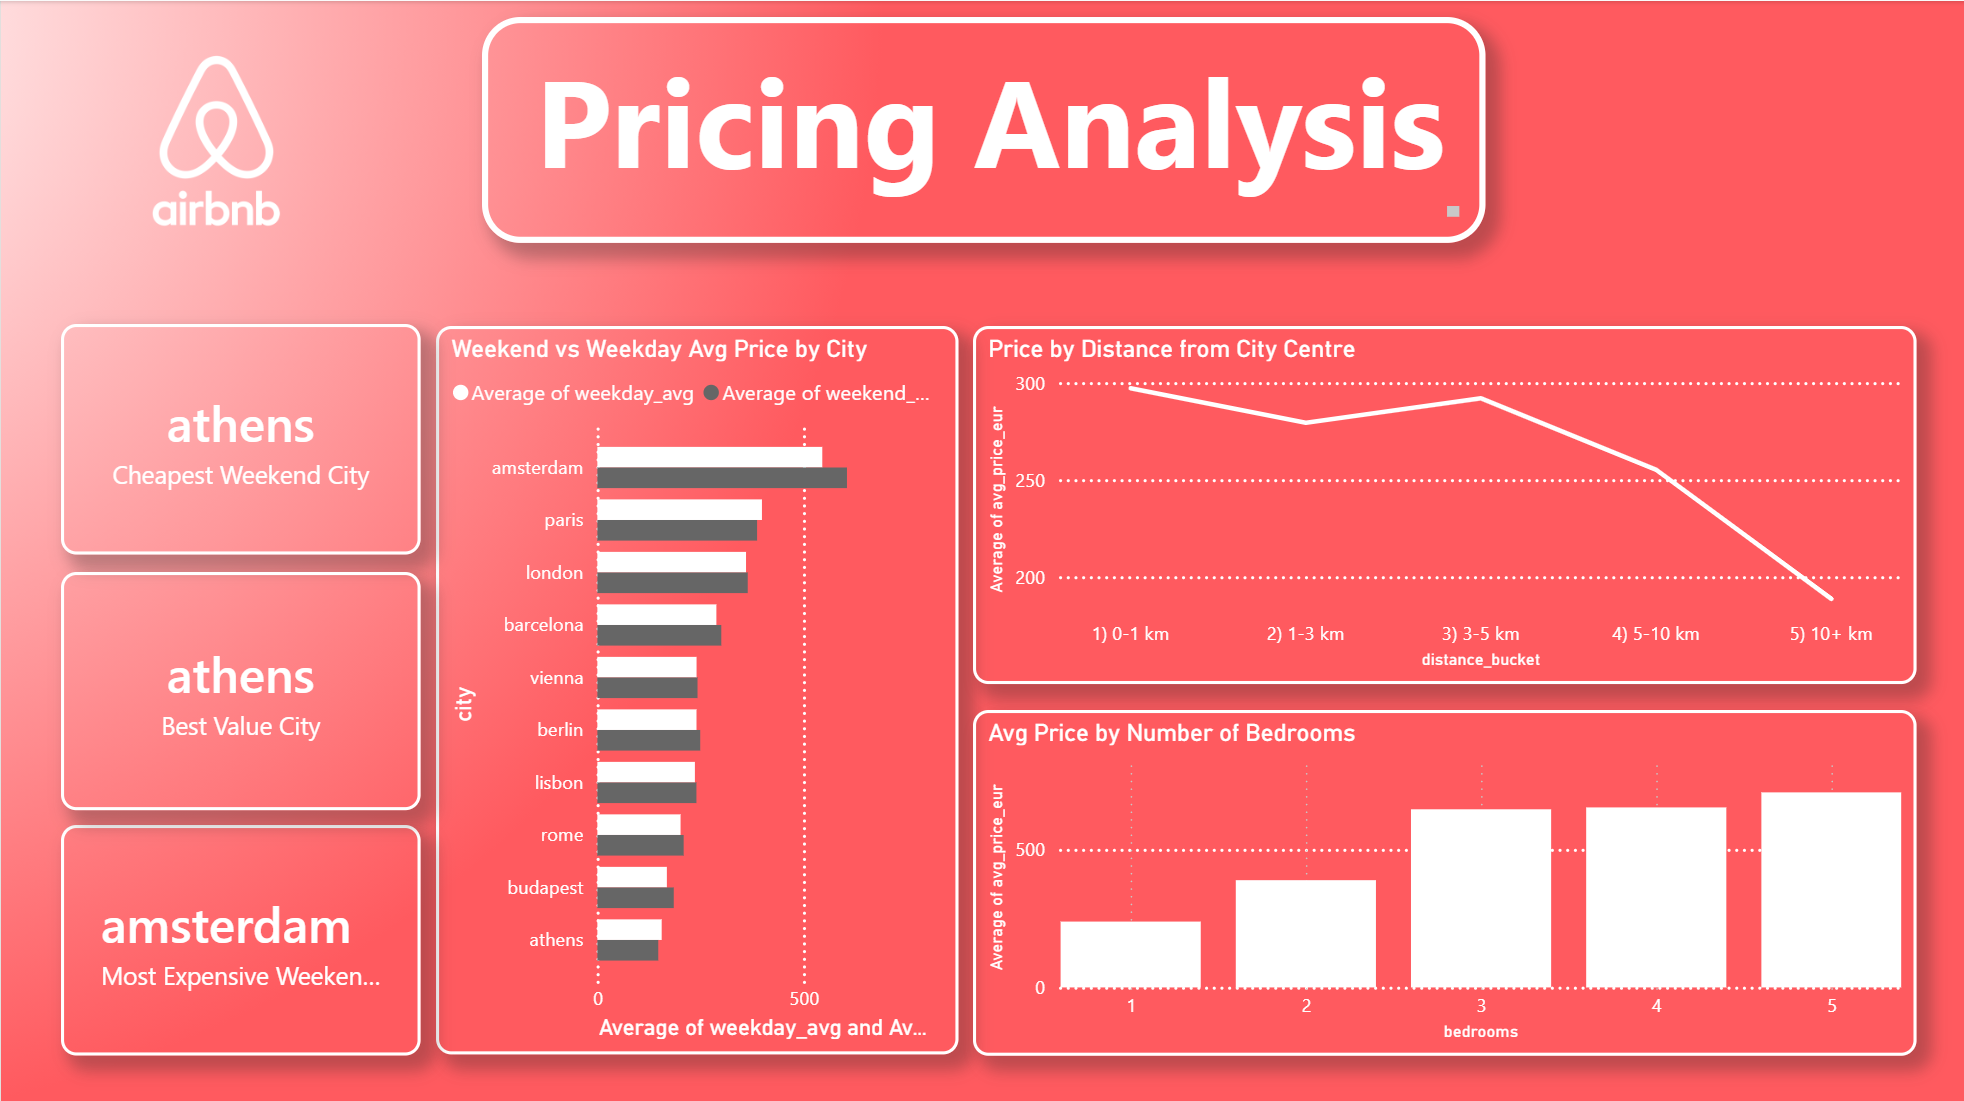

This screenshot's page, from the dashboard's own definition file:
{"tool":"powerbi","page":{"name":"Page 2","canvas":[1280,720],"ordinal":1},"visuals":[{"type":"image","box":[0,0,955.1,720],"z":0},{"type":"textbox","title":"Pricing Analysis","box":[313.3,10.1,653.5,146.7],"z":1000},{"type":"clusteredBarChart","title":"Weekend vs Weekday Avg Price by City","fields":{"Category":["weekend_vs_weekday.city"],"Y":["Avg(weekend_vs_weekday.weekday_avg)","Avg(weekend_vs_weekday.weekend_avg)"]},"box":[283.3,211.3,339.9,474.4],"z":2000},{"type":"lineChart","title":"Price by Distance from City Centre","fields":{"Category":["price_vs_distance.distance_bucket"],"Y":["Avg(price_vs_distance.avg_price_eur)"]},"box":[632.8,211.5,614.2,232.6],"z":3000},{"type":"columnChart","title":"Avg Price by Number of Bedrooms","fields":{"Category":["bedroom_price_breakdown.bedrooms"],"Y":["Avg(bedroom_price_breakdown.avg_price_eur)"]},"box":[632.8,461.4,614.2,224.5],"z":4000},{"type":"cardVisual","fields":{"Data":["avg_price_by_city.Top Weekend City"]},"box":[39,536.3,234.4,149.7],"z":5000},{"type":"cardVisual","fields":{"Data":["avg_price_by_city.Bottom Weekend City"]},"box":[39,210.3,234.4,149.7],"z":6000},{"type":"image","box":[30,28,219.7,125.8],"z":7000},{"type":"cardVisual","fields":{"Data":["best_value_cities.Best Value City"]},"box":[39,371.8,234.4,154.6],"z":8000}]}

Visuals, with their boxes in screenshot pixels (x1, y1, x2, y2), scaled from the page's 1280x720 canvas onto the 1964x1101 screenshot:
image: l=0, t=0, r=1465, b=1100
"Pricing Analysis" textbox: l=481, t=15, r=1483, b=240
"Weekend vs Weekday Avg Price by City" clusteredBarChart: l=435, t=323, r=956, b=1049
"Price by Distance from City Centre" lineChart: l=971, t=323, r=1913, b=679
"Avg Price by Number of Bedrooms" columnChart: l=971, t=706, r=1913, b=1049
cardVisual - avg_price_by_city.Top Weekend City: l=60, t=820, r=419, b=1049
cardVisual - avg_price_by_city.Bottom Weekend City: l=60, t=322, r=419, b=550
image: l=46, t=43, r=383, b=235
cardVisual - best_value_cities.Best Value City: l=60, t=569, r=419, b=805
